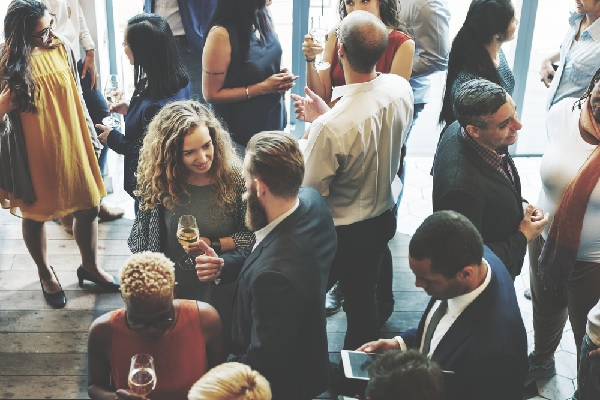without_mask: (126, 300, 176, 339), (480, 105, 522, 148), (411, 265, 460, 299), (182, 139, 216, 174), (29, 18, 55, 49), (122, 30, 141, 68)
